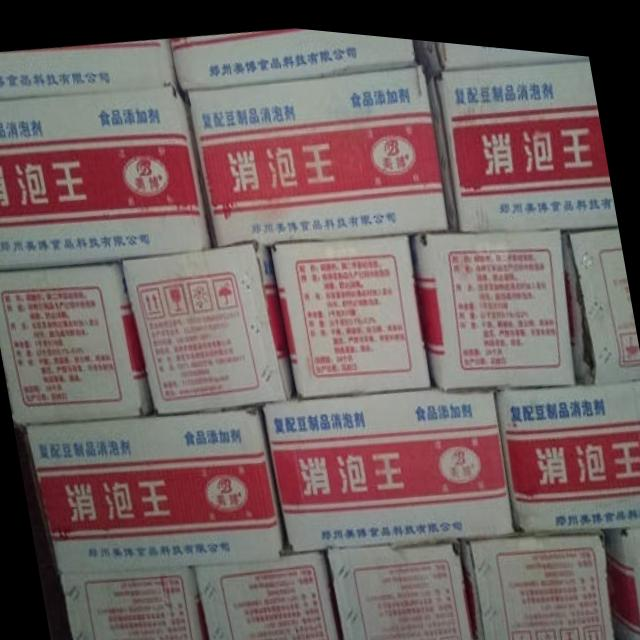box: (184, 55, 452, 242), (23, 398, 285, 573), (262, 380, 518, 546), (0, 85, 213, 270), (429, 48, 616, 217), (123, 239, 297, 411), (410, 218, 575, 382), (272, 221, 433, 389), (0, 256, 154, 423), (494, 367, 640, 524), (461, 519, 617, 640), (325, 528, 478, 640), (168, 23, 418, 86), (194, 545, 344, 640), (562, 211, 640, 375), (58, 560, 210, 640), (0, 34, 177, 99), (415, 31, 588, 70), (603, 514, 640, 637)
